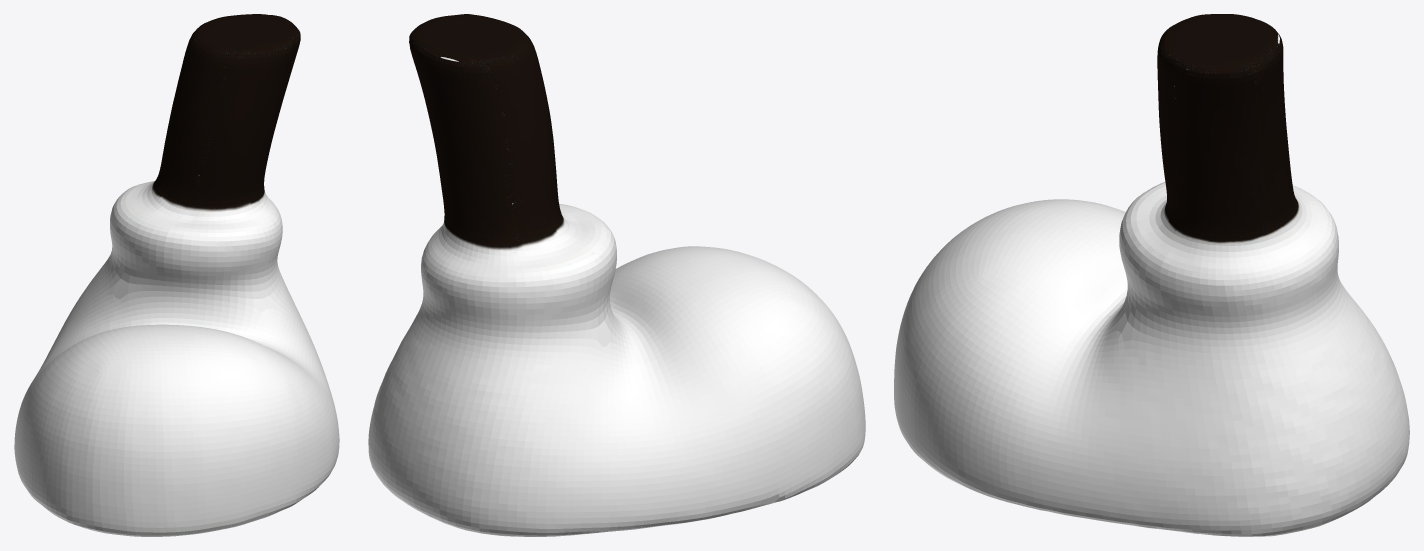
The model's file is LEG_R.glb.
The picture shows the model from 3 angles, left to right: view 1: azimuth 30°, elevation 25°; view 2: azimuth 150°, elevation 25°; view 3: azimuth 270°, elevation 25°; orthographic projection. The views are drawn at different scales.
Parts seen in each view (by area): view 1: LEG_R; view 2: LEG_R; view 3: LEG_R.
Part boxes in pixels (x1,y1,x2,y2): LEG_R: (14,14,339,536); LEG_R: (368,14,865,536); LEG_R: (894,14,1409,536).
Size of the model in its own units: 30.14 by 32.24 by 32.32.
Materials: 1 (1 with a texture image).
